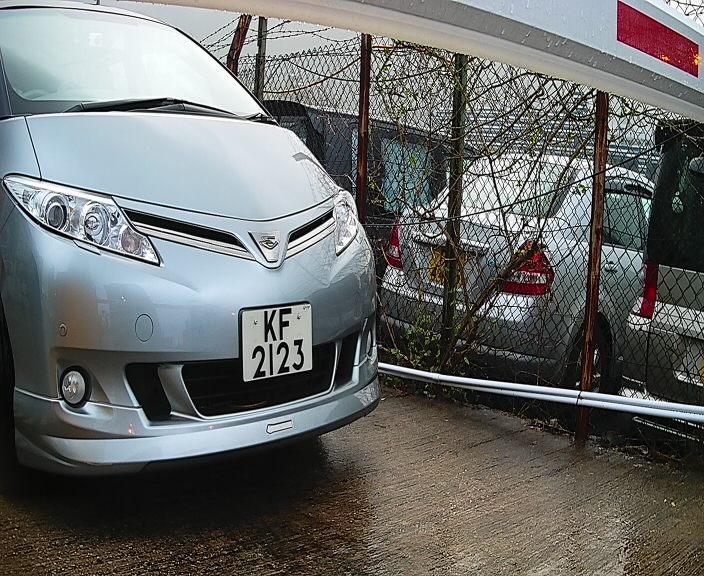License Plate: (232, 290, 323, 392)
